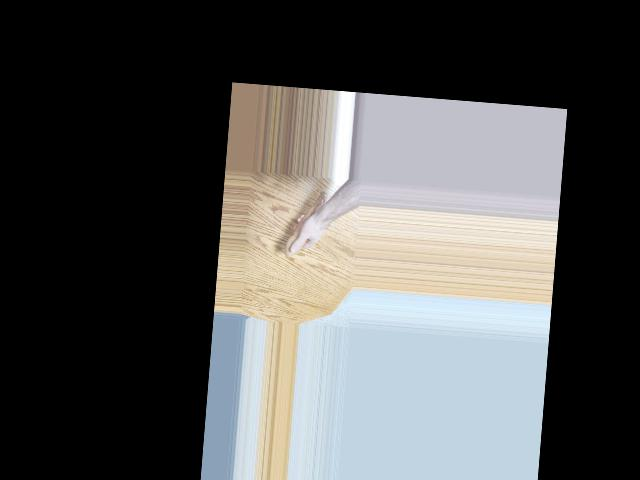sweet_potato: (285, 186, 329, 256)
